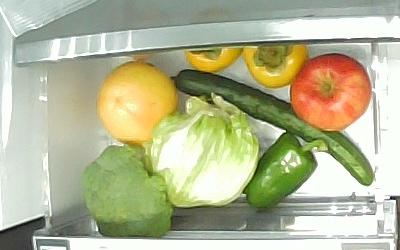apple: (289, 53, 372, 132)
broccoli: (81, 145, 173, 237)
cucumber: (170, 69, 374, 187)
grapefruit: (97, 60, 179, 145)
lettuce: (140, 92, 259, 208)
paprika: (242, 129, 329, 210)
persimmon: (241, 41, 308, 89), (185, 45, 244, 72)
